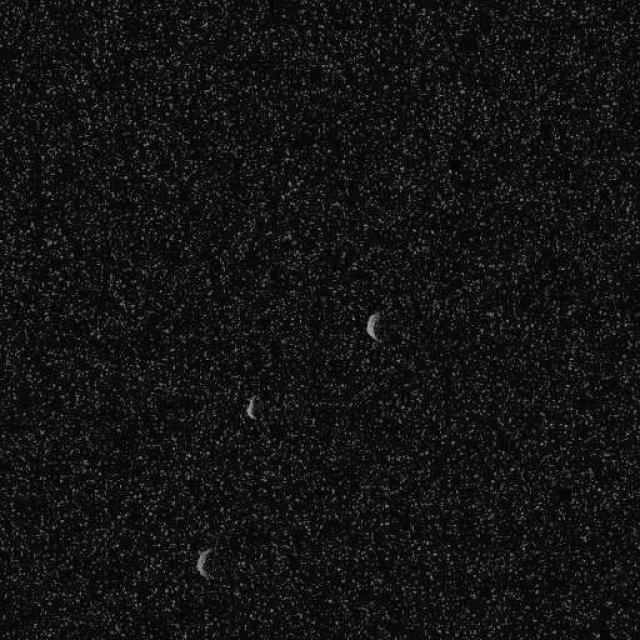D2: (194, 546, 215, 582), (364, 311, 381, 341), (244, 394, 258, 420)
